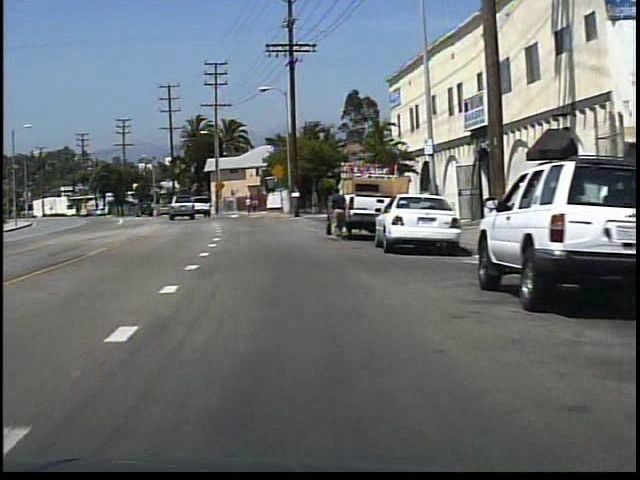person: (325, 185, 348, 243), (243, 195, 253, 217), (251, 196, 261, 215)
